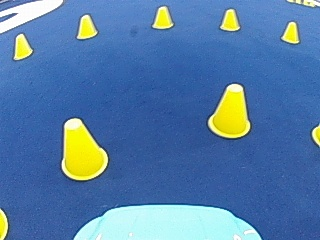cone: (60, 117, 107, 179), (208, 83, 251, 138), (75, 13, 98, 39), (12, 32, 33, 59), (151, 5, 174, 29), (219, 7, 240, 31), (281, 20, 300, 43), (311, 124, 318, 146)
